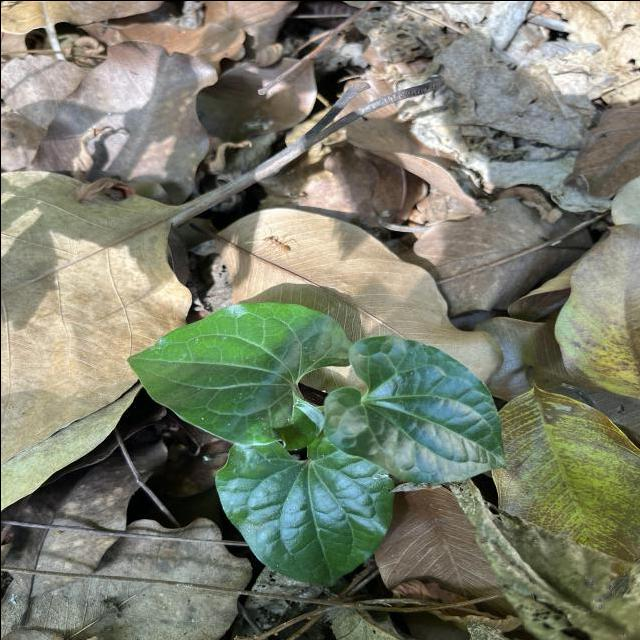Piper longum: (123, 299, 350, 451), (320, 333, 509, 485), (213, 432, 395, 586)
